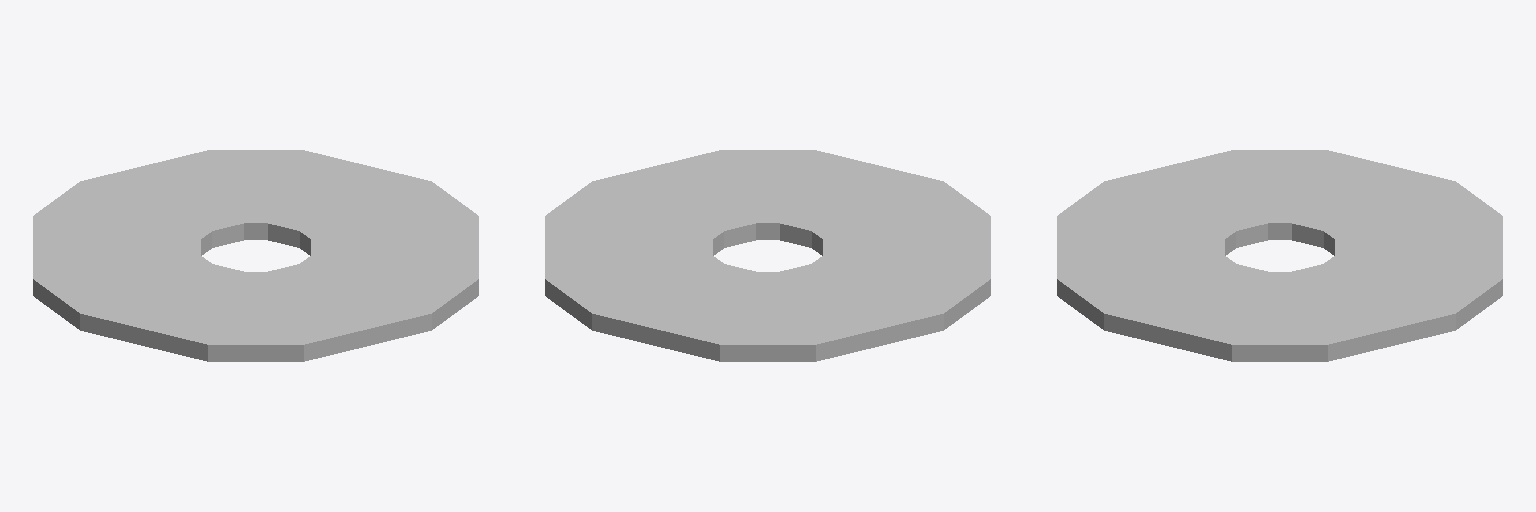
File: chip_5.obj
3 views of the same model, side by side, from view 1: azimuth 30°, elevation 25°; view 2: azimuth 150°, elevation 25°; view 3: azimuth 270°, elevation 25° (orthographic).
Visible parts, largest first — view 1: chip.005; view 2: chip.005; view 3: chip.005.
Part boxes in pixels (left/top/right/bottom): chip.005: left=33, top=150, right=478, bottom=361; chip.005: left=545, top=150, right=990, bottom=361; chip.005: left=1057, top=150, right=1502, bottom=361.
Size of the model in its own units: 8.66 by 0.3528 by 8.39.